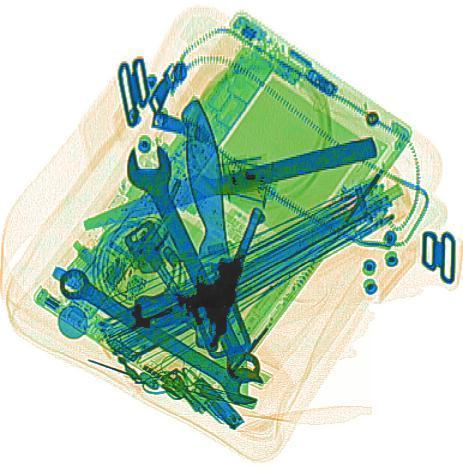Gun: (125, 181, 270, 350)
Knife: (78, 132, 378, 231), (179, 95, 234, 349)
Wrench: (115, 136, 271, 388), (49, 260, 270, 411)
